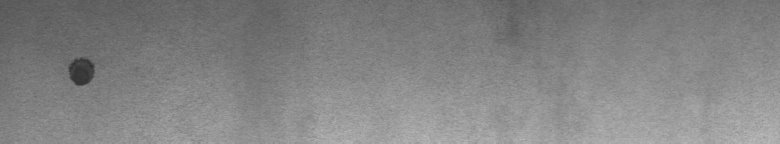fi: (61, 49, 104, 95)
